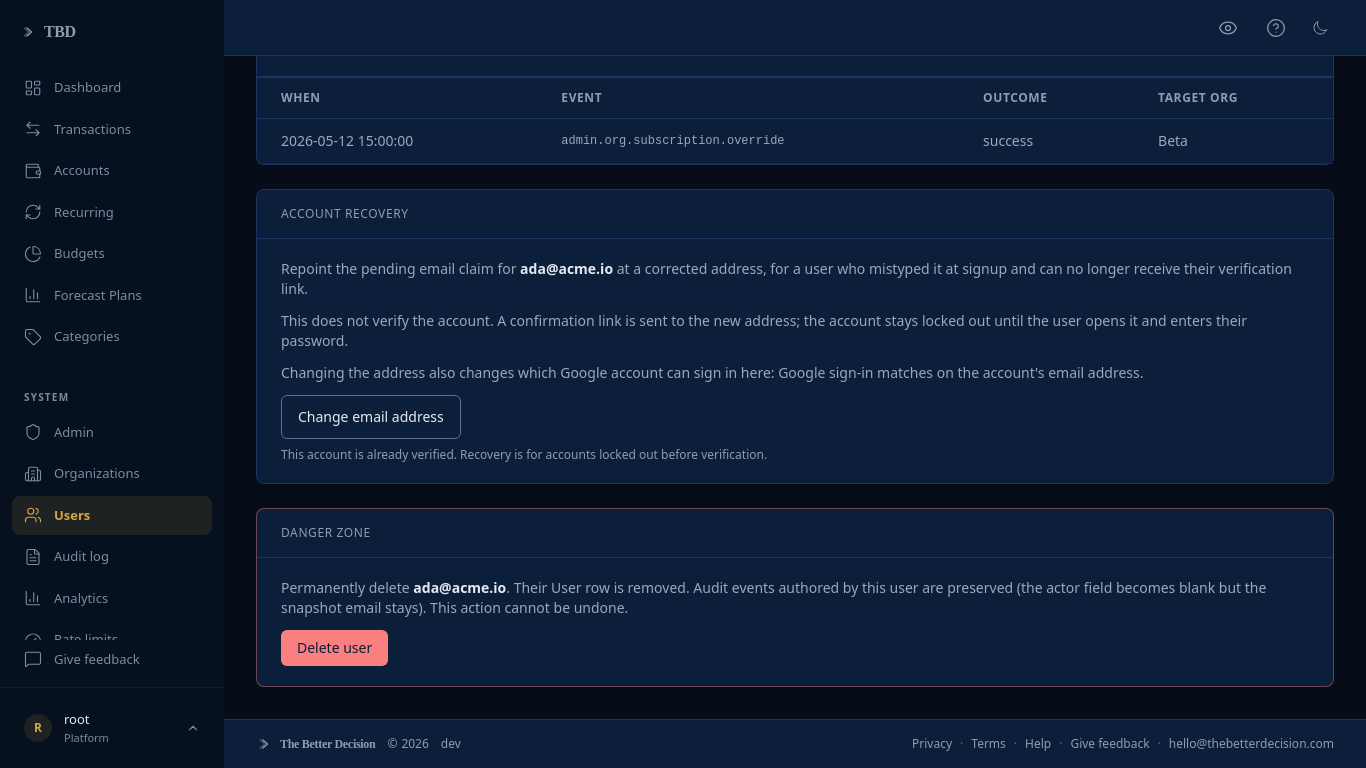
AdminUserDetailPage › closes the modal and surfaces the error when DELETE fails (architect feedback on PR #303)
(page scrolled)
What coordinates should you click on to do the following:
click the button with aria-label "delete user ada@acme.io"
I would click on:
 (335, 648)
Its box is x1=281 y1=630 x2=388 y2=666.
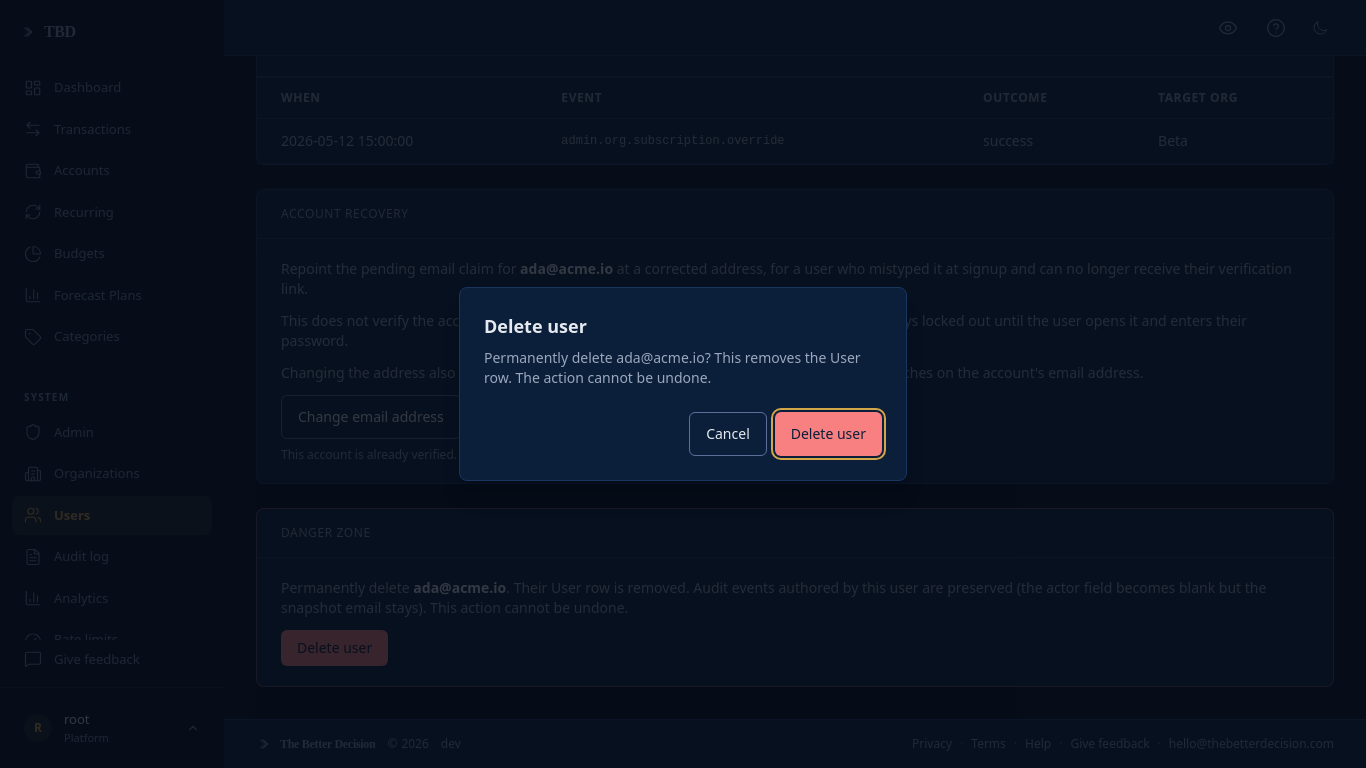
What coordinates should you click on to do the following:
click the button "Delete user"
I would click on:
 (828, 434)
Its box is x1=775 y1=412 x2=882 y2=456.
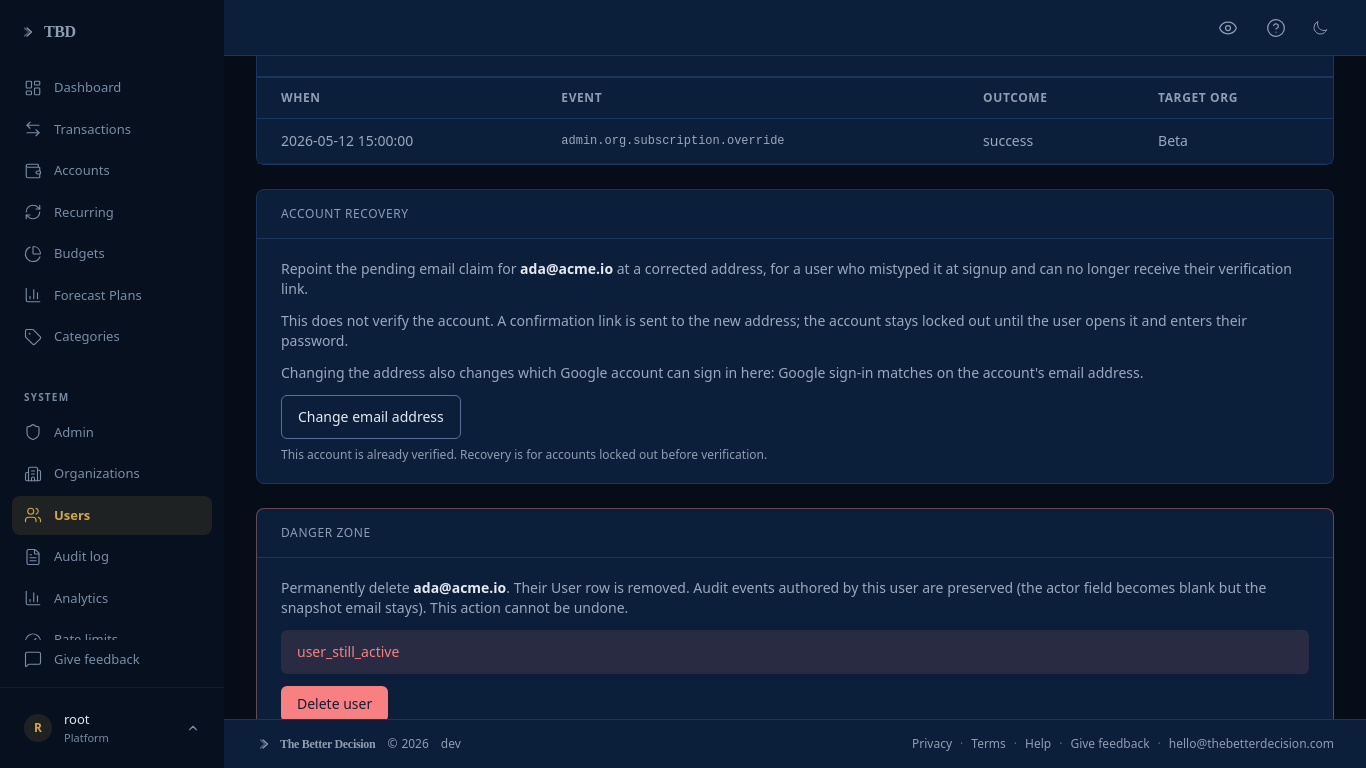
Expected: the dialog is gone
Expected: the message reads "user_still_active", x1=297 y1=642 x2=399 y2=661
